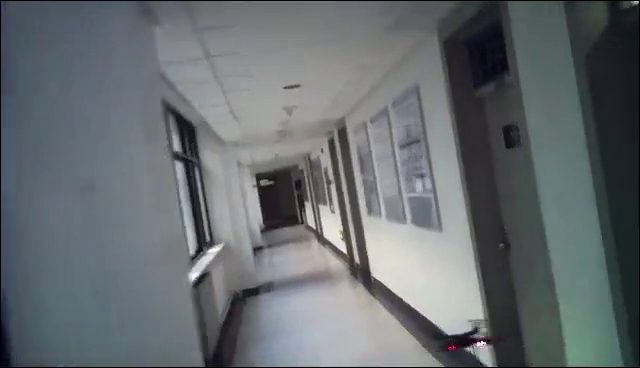drone: (414, 316, 503, 355)
